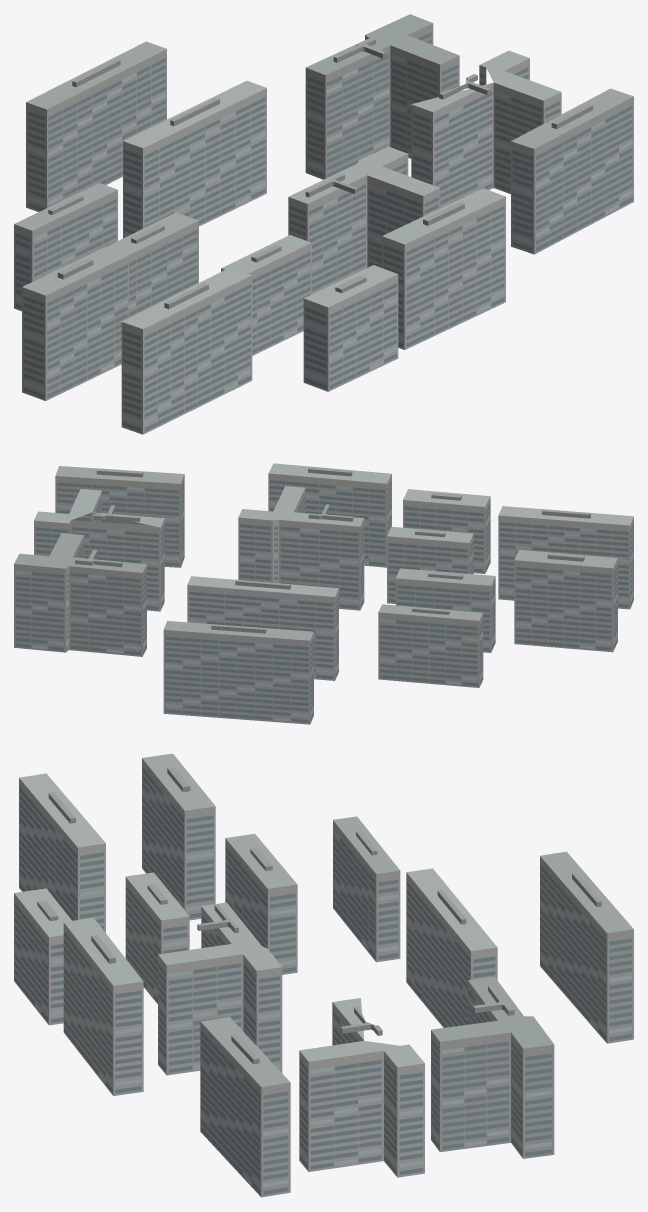
Rendered from apt-a13972603.glb.
3 renders of one model, top to bottom at view 1: azimuth 30°, elevation 25°; view 2: azimuth 150°, elevation 25°; view 3: azimuth 270°, elevation 25°, orthographic. The views are drawn at different scales.
Visible parts, largest first — view 1: apt-a13972603; view 2: apt-a13972603; view 3: apt-a13972603.
Part boxes in pixels (<box>): apt-a13972603: <box>14,14,633,434</box>; apt-a13972603: <box>14,463,633,724</box>; apt-a13972603: <box>14,753,633,1197</box>.
Size of the model in its own units: 297 by 47.81 by 233.
